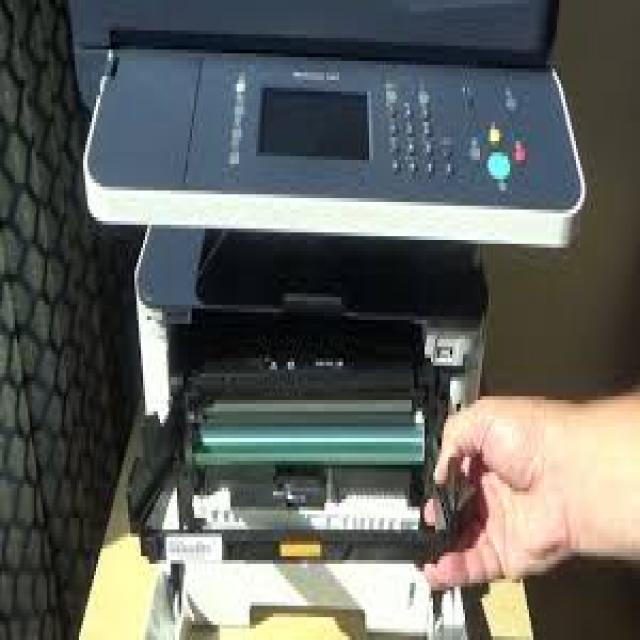printer: (70, 14, 594, 615)
